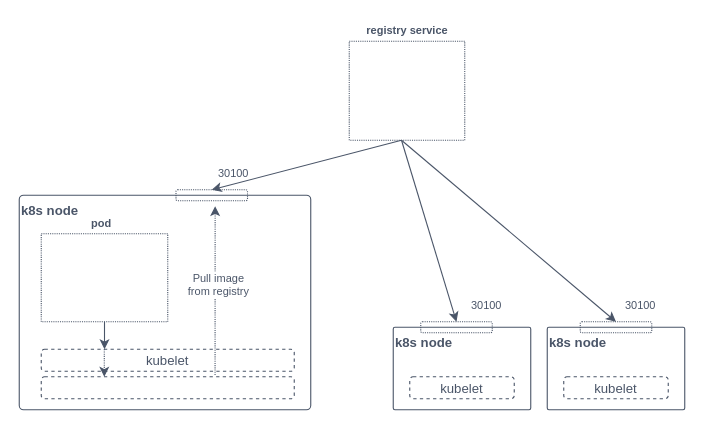
Some shapes in this 704 by 429 pixel diagram are drawn without their labels. Each missing label, with the box of its shape:
apiVersion: v1 kind: Pod spec: containers: - image: alpine:latest: (40, 233, 168, 322)
apiVersion: v1 kind: Service spec: ports: - nodePort: 30100 ...: (348, 40, 465, 140)
container runtime: (40, 376, 294, 399)
